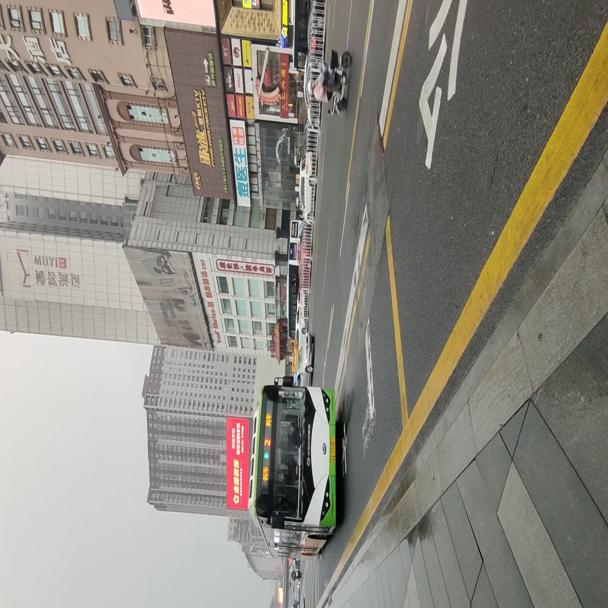bus: (247, 382, 338, 556)
screen: (264, 435, 270, 448)
